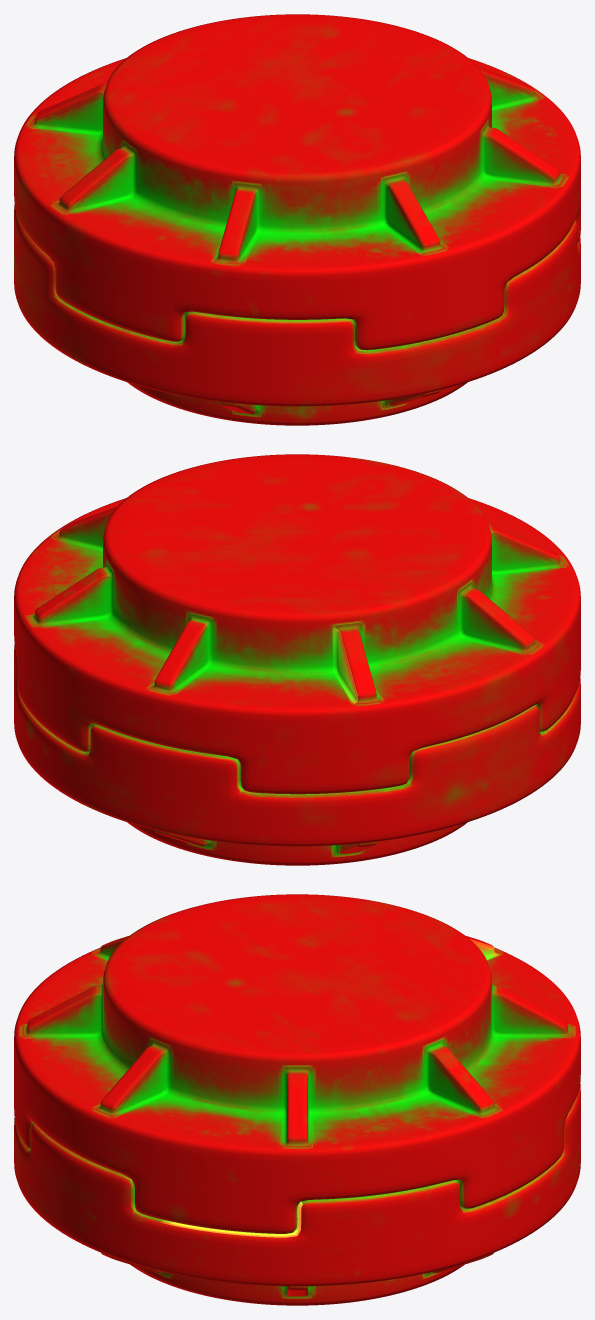
The model's file is SM_PlasticPipe_connection_02.fbx.
The picture shows the model from 3 angles, top to bottom: view 1: azimuth 30°, elevation 25°; view 2: azimuth 150°, elevation 25°; view 3: azimuth 270°, elevation 25°; orthographic projection.
Visible parts, largest first — view 1: SM_PlasticPipe_connection_02_LOD0; view 2: SM_PlasticPipe_connection_02_LOD0; view 3: SM_PlasticPipe_connection_02_LOD0.
Part boxes in pixels (bbox=[...]): SM_PlasticPipe_connection_02_LOD0: bbox=[14, 14, 580, 425]; SM_PlasticPipe_connection_02_LOD0: bbox=[14, 454, 580, 865]; SM_PlasticPipe_connection_02_LOD0: bbox=[14, 894, 580, 1305].
Size of the model in its own units: 23.93 by 23.93 by 11.73.
